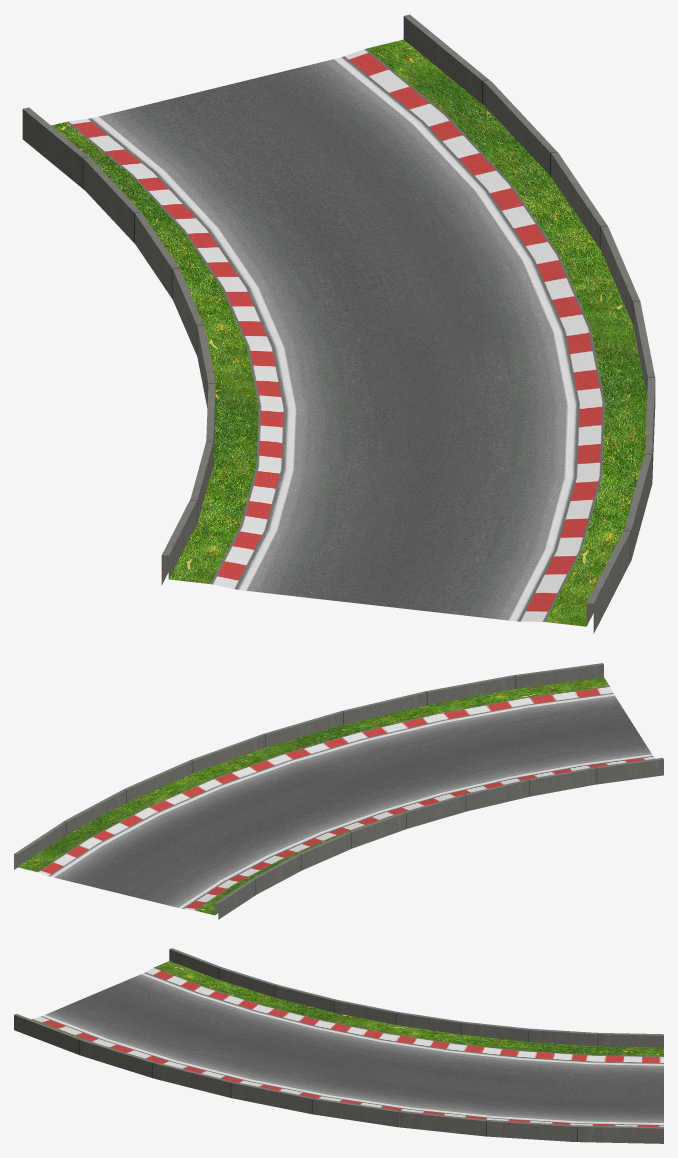
File: turn_small_long.fbx
The picture shows the model from 3 angles, top to bottom: view 1: azimuth 30°, elevation 25°; view 2: azimuth 150°, elevation 25°; view 3: azimuth 270°, elevation 25°; orthographic projection. The views are drawn at different scales.
Visible parts, largest first — view 1: 10; view 2: 10; view 3: 10.
Part boxes in pixels (x1=…): 10: x1=22, y1=14, x2=655, y2=633; 10: x1=14, y1=663, x2=663, y2=919; 10: x1=14, y1=948, x2=663, y2=1143.
Bounding box in the file's own units: 339 × 13.34 × 515.
